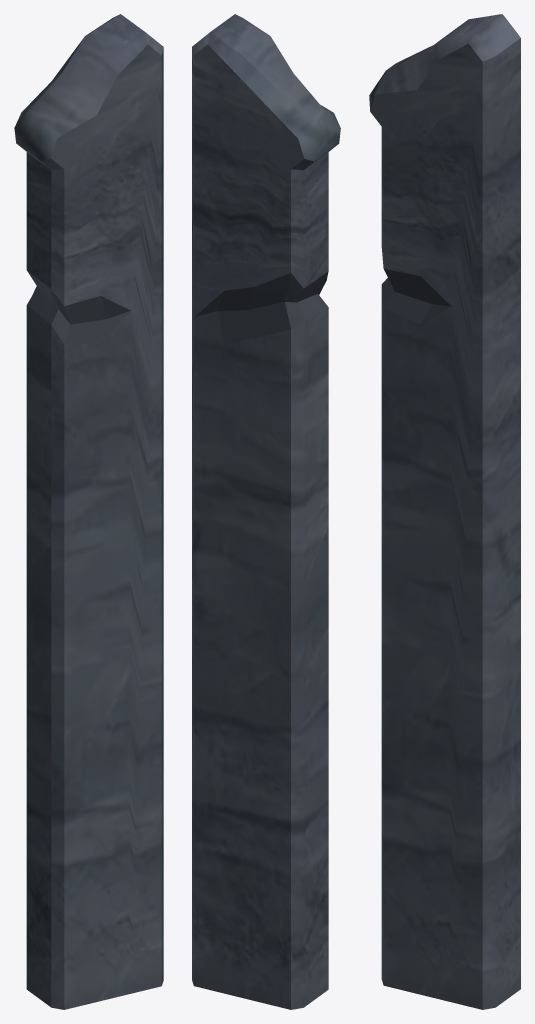
The model's file is pm-stand-column-04.glb.
3 renders of one model, left to right at view 1: azimuth 30°, elevation 25°; view 2: azimuth 150°, elevation 25°; view 3: azimuth 330°, elevation 25°, orthographic.
Parts seen in each view (by area): view 1: StandColumn04; view 2: StandColumn04; view 3: StandColumn04.
Part boxes in pixels (box(x1,y1,x2,y2)): StandColumn04: box(14, 14, 163, 1009); StandColumn04: box(192, 14, 340, 1009); StandColumn04: box(369, 14, 520, 1009).
Size of what is drawn, in the model's own units: 1.99 by 14.51 by 0.9887.
Materials: 1 (1 with a texture image).
